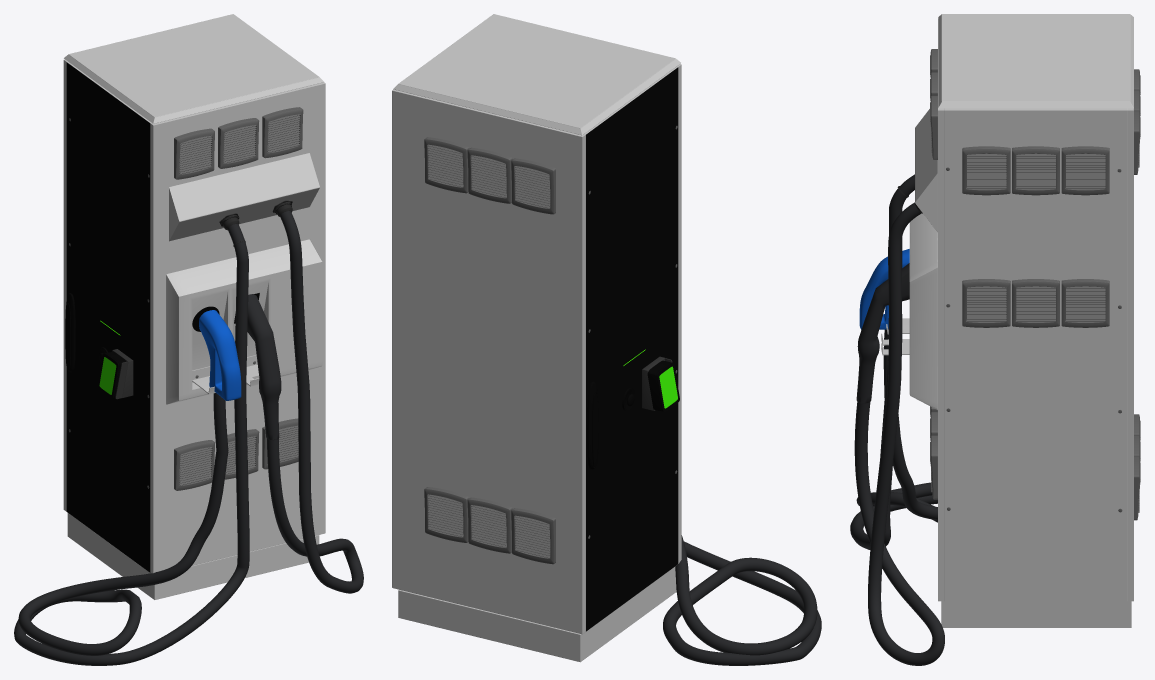
Rendered from Elrctric Vehicle Charger.fbx.
The picture shows the model from 3 angles, left to right: view 1: azimuth 30°, elevation 25°; view 2: azimuth 150°, elevation 25°; view 3: azimuth 270°, elevation 25°; orthographic projection. The views are drawn at different scales.
Parts seen in each view (by area): view 1: Main_body, Charger_wire_1, Holder, Box006, Charger_wire_2, Charger_handle_2, Charger_handle_1, Air_vent_2, Air_vent_3, Air_vent_1, Air_vent_6, LED (+5 smaller); view 2: Main_body, Charger_wire_1, LED, Air_vent_7, Air_vent_10, Air_vent_8, Air_vent_11, Air_vent_9, Air_vent_12, Lcd_2, Handles_on; view 3: Main_body, Charger_wire_2, Holder, Charger_wire_1, Air_vent_15, Charger_handle_2, Air_vent_13, Air_vent_18, Air_vent_16, Air_vent_14, Air_vent_17, Box006 (+3 smaller).
Part boxes in pixels (x1,y1,x2,y2): Main_body: [63, 14, 325, 599]; Charger_wire_1: [14, 224, 249, 665]; Holder: [166, 239, 322, 404]; Box006: [169, 153, 319, 241]; Charger_wire_2: [267, 211, 363, 593]; Charger_handle_2: [247, 294, 281, 440]; Charger_handle_1: [199, 310, 241, 400]; Air_vent_2: [262, 107, 303, 158]; Air_vent_3: [218, 118, 259, 168]; Air_vent_1: [174, 128, 214, 179]; Air_vent_6: [174, 440, 214, 490]; LED: [97, 257, 123, 339]; Main_body: [392, 14, 681, 662]; Charger_wire_1: [663, 535, 821, 665]; LED: [619, 279, 649, 370]; Air_vent_7: [511, 158, 555, 214]; Air_vent_10: [511, 508, 555, 564]; Air_vent_8: [467, 147, 512, 203]; Air_vent_11: [467, 497, 512, 553]; Air_vent_9: [424, 137, 469, 193]; Air_vent_12: [424, 487, 469, 542]; Lcd_2: [647, 360, 679, 412]; Handles_on: [587, 381, 598, 469]; Main_body: [938, 14, 1133, 627]; Charger_wire_2: [854, 202, 944, 665]; Holder: [881, 213, 937, 409]; Charger_wire_1: [850, 174, 937, 549]; Air_vent_15: [962, 146, 1010, 195]; Charger_handle_2: [856, 263, 909, 403]; Air_vent_13: [1061, 146, 1109, 195]; Air_vent_18: [962, 279, 1010, 327]; Air_vent_16: [1061, 279, 1109, 327]; Air_vent_14: [1012, 146, 1059, 195]; Air_vent_17: [1012, 279, 1059, 327]; Box006: [915, 109, 937, 231].
Bounding box in the file's own units: 101 × 149 × 70.84.
